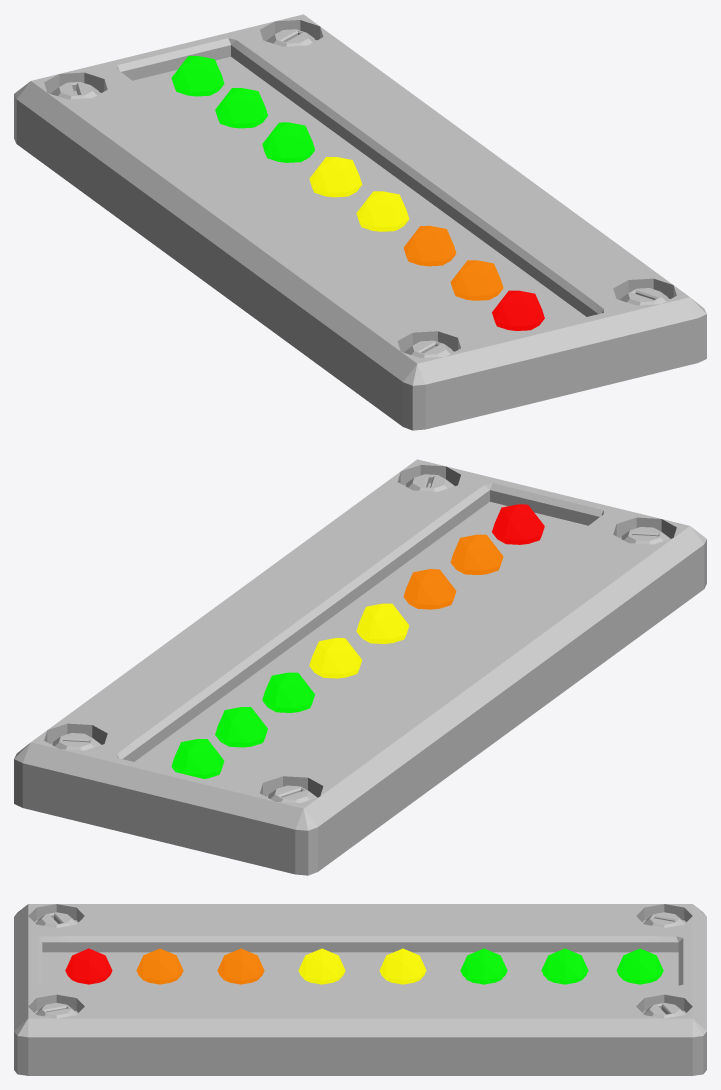
File: NASA_Control_Potentiometer.FBX
3 views of the same model, one above another, from view 1: azimuth 30°, elevation 25°; view 2: azimuth 150°, elevation 25°; view 3: azimuth 270°, elevation 25° (orthographic). The views are drawn at different scales.
Visible parts, largest first — view 1: Box353, GeoSphere401; view 2: Box353, GeoSphere401; view 3: Box353, GeoSphere401.
Boxes of the visible parts, <box> form: Box353: <box>14,14,706,430</box>; GeoSphere401: <box>171,56,544,330</box>; Box353: <box>14,459,706,875</box>; GeoSphere401: <box>171,504,544,778</box>; Box353: <box>14,904,706,1075</box>; GeoSphere401: <box>65,948,663,984</box>.
Bounding box in the file's own units: 9.5 × 2.23 × 22.
